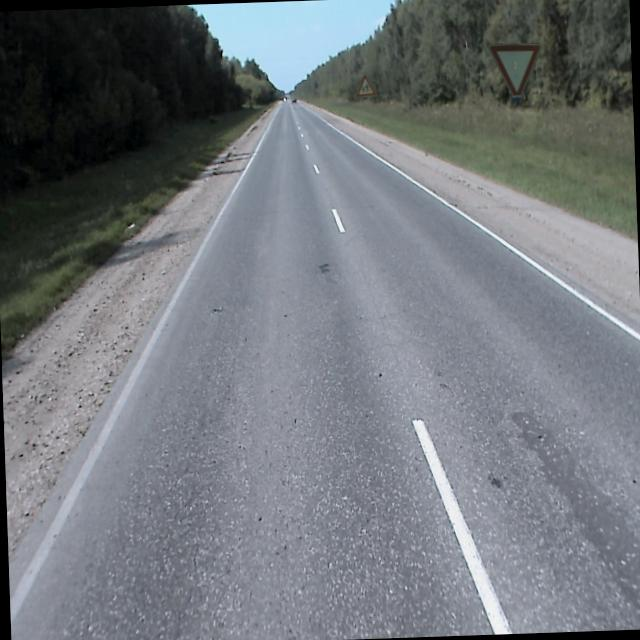road: (8, 97, 640, 640)
